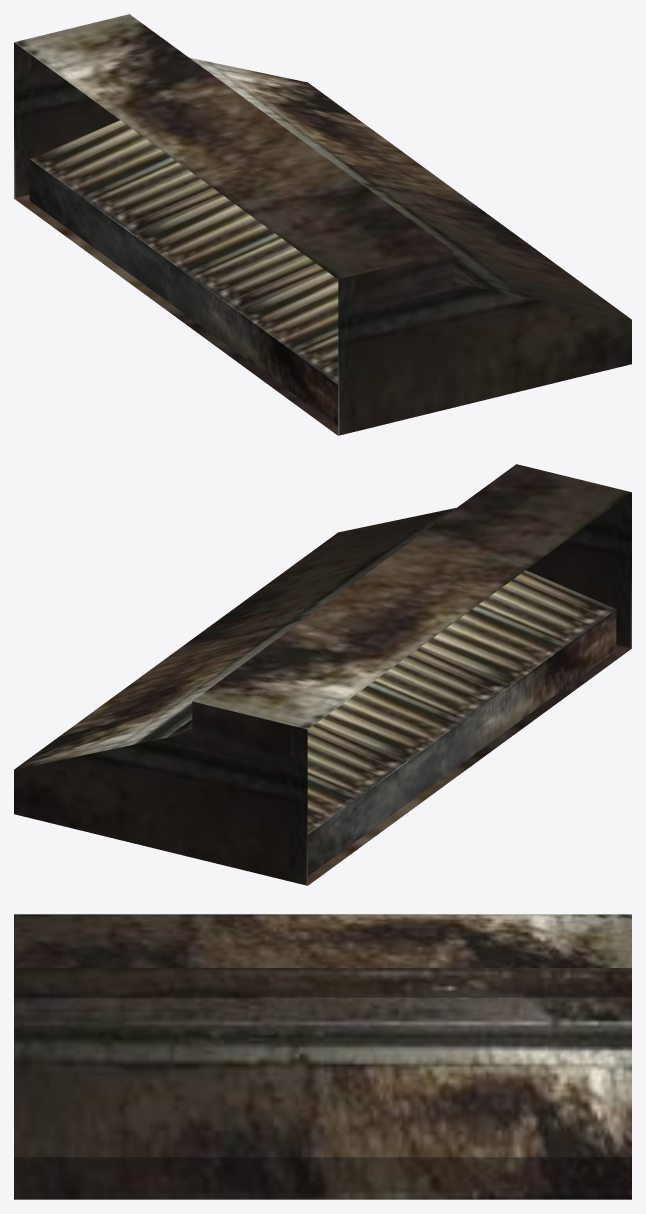
File: kitchen_exhaust.FBX
3 views of the same model, one above another, from view 1: azimuth 30°, elevation 25°; view 2: azimuth 150°, elevation 25°; view 3: azimuth 270°, elevation 25° (orthographic). The views are drawn at different scales.
Visible parts, largest first — view 1: kitchen_exhaust; view 2: kitchen_exhaust; view 3: kitchen_exhaust.
Part boxes in pixels (box(x1,y1,x2,y2)): kitchen_exhaust: box(14, 14, 631, 435); kitchen_exhaust: box(14, 464, 631, 885); kitchen_exhaust: box(14, 914, 631, 1199).
Size of the model in its own units: 86.26 by 43.84 by 165.
